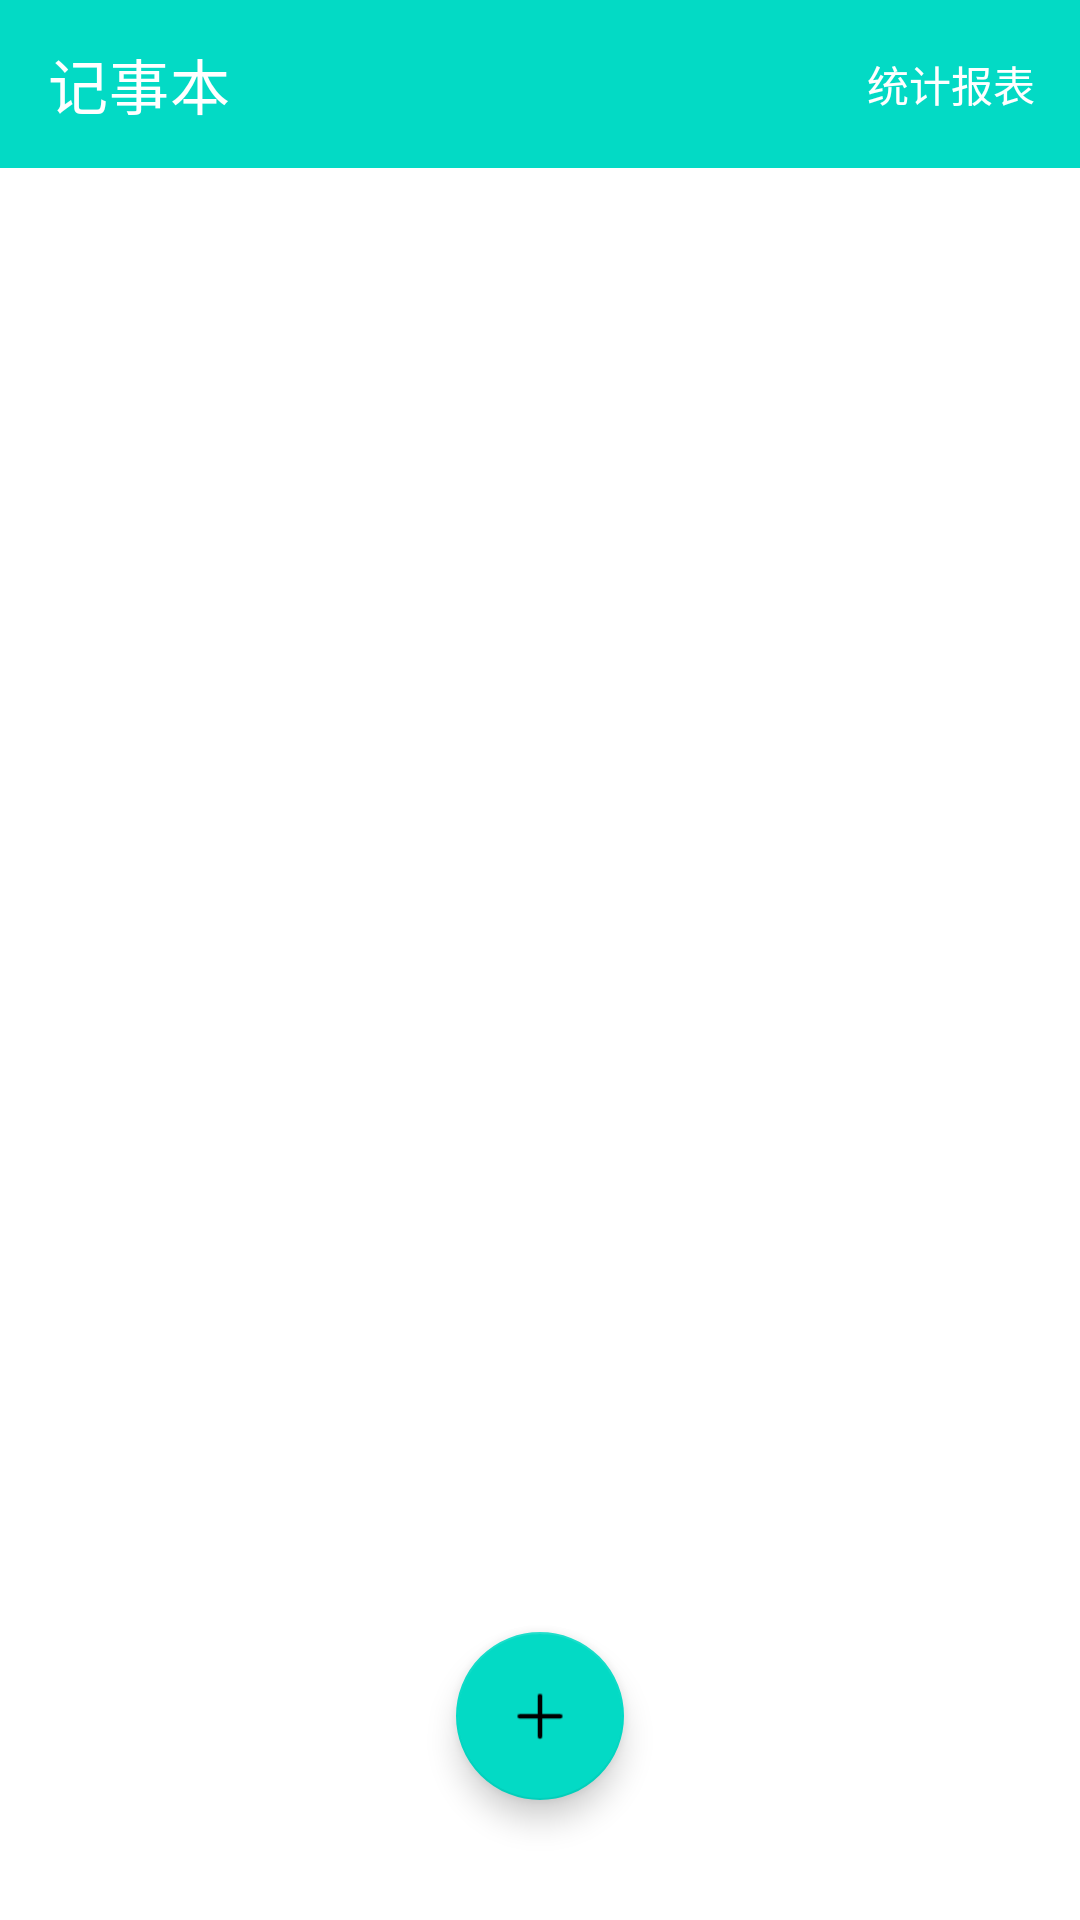

Point at icon controls on the screen. Image size 1080px x 1920px, points as point (x, y).
add: point (540, 1716)
